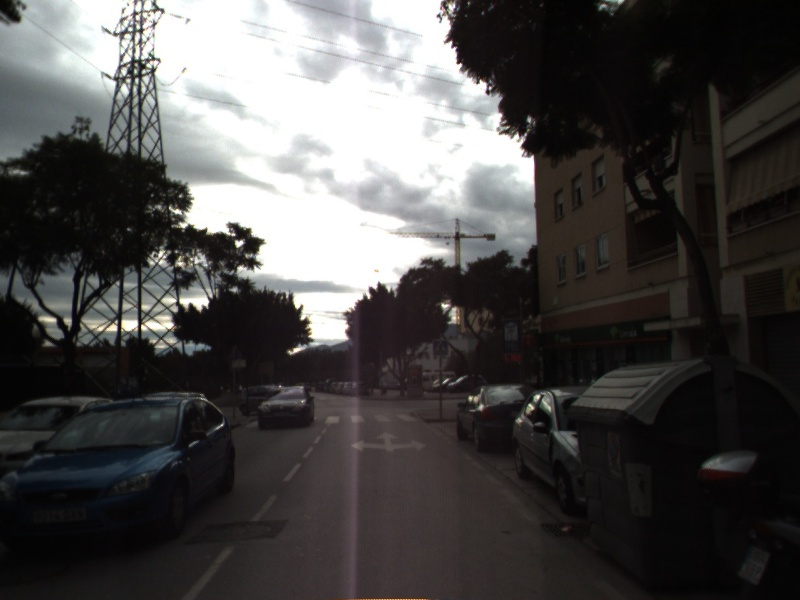STRAIGHT_LEFT_RIGHT: (349, 429, 429, 454)
